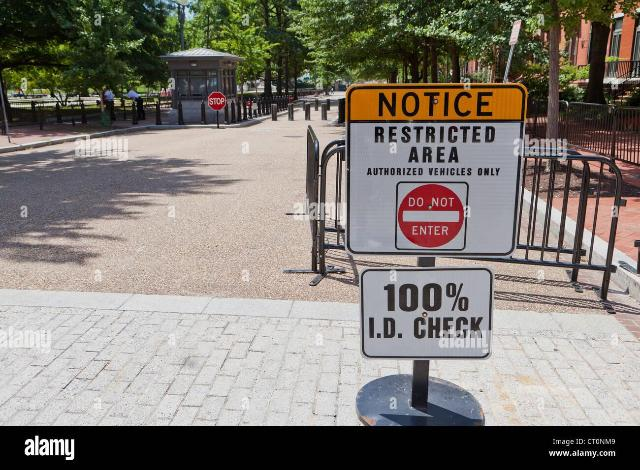B2: (401, 186, 463, 246)
